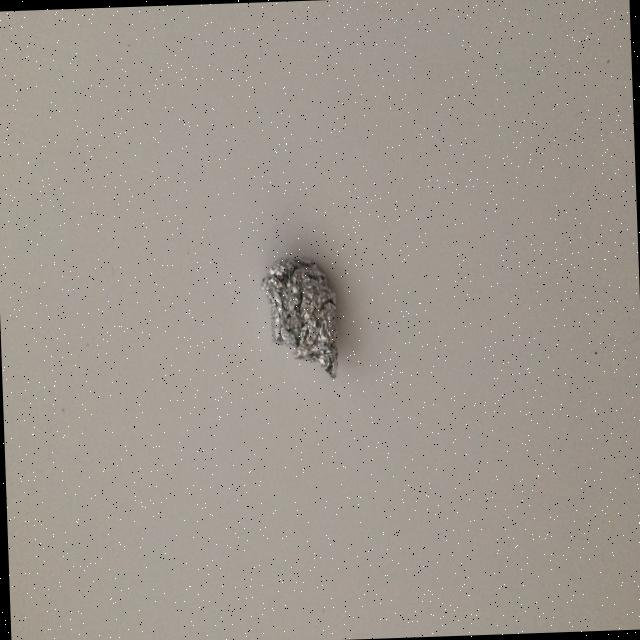metal: (258, 254, 339, 380)
